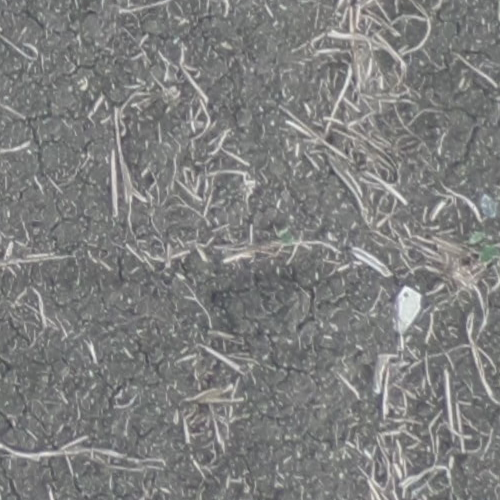plant: (469, 231, 499, 262)
